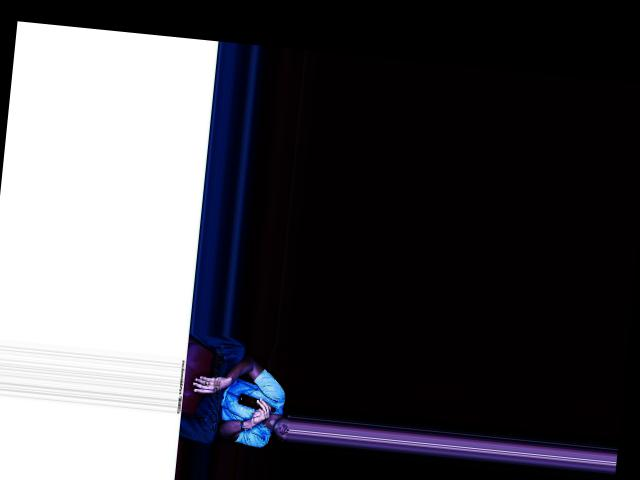beer: (237, 392, 277, 412)
